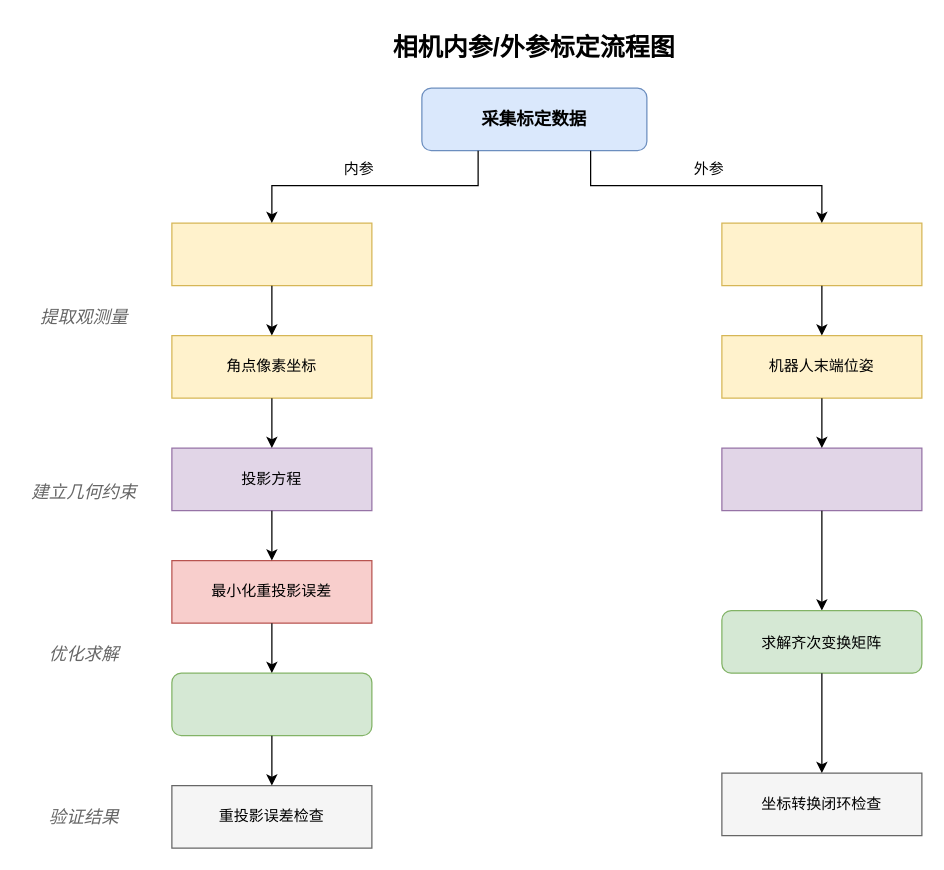
This 944x870 diagram has some shape labels left out. The box of each missing label's shape, as (x1, y1, x2, y2) in pixels:
刚体变换关系: (721, 447, 922, 511)
多角度棋盘格图像: (171, 222, 372, 286)
机器人不同位姿: (721, 222, 922, 286)
求解内参K、畸变: (171, 672, 372, 736)
